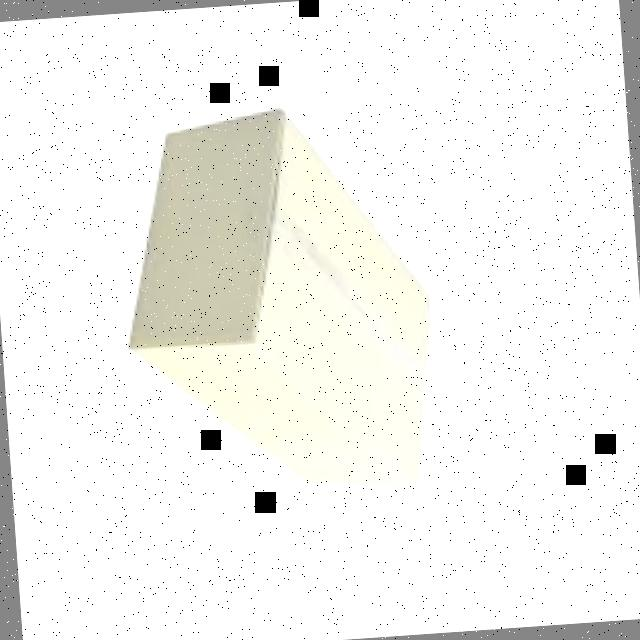cardboard_box: (108, 102, 446, 508)
